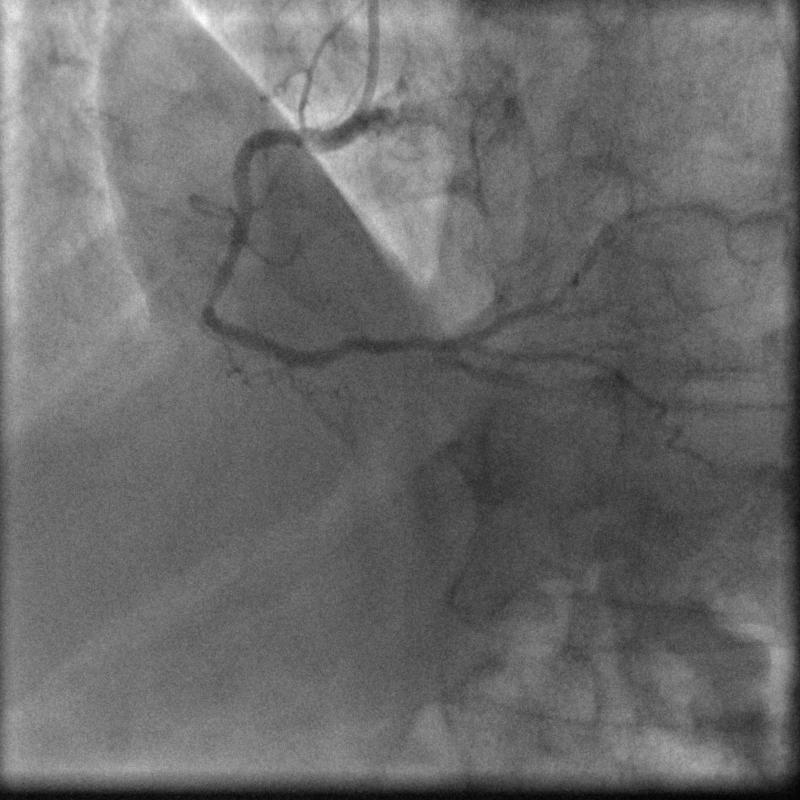Stenosis: (201, 283, 223, 312)
